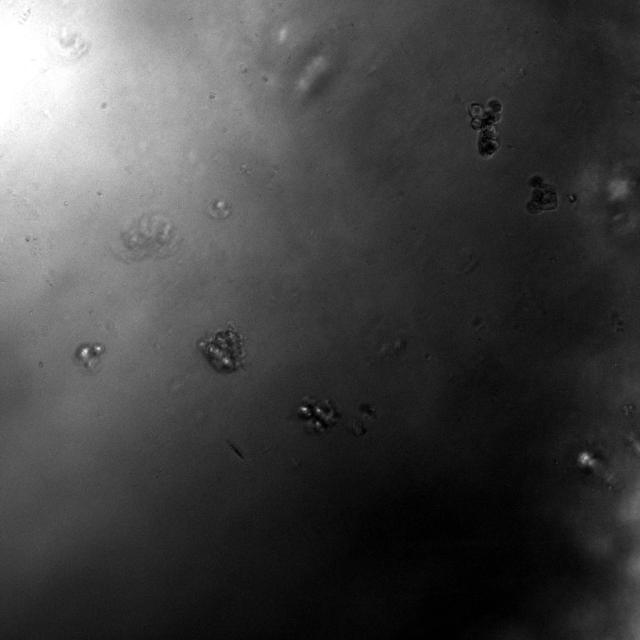organoid: (197, 324, 245, 373), (466, 98, 502, 158), (298, 396, 341, 432), (526, 175, 559, 214), (73, 342, 106, 374), (350, 419, 366, 436), (358, 403, 376, 418)
